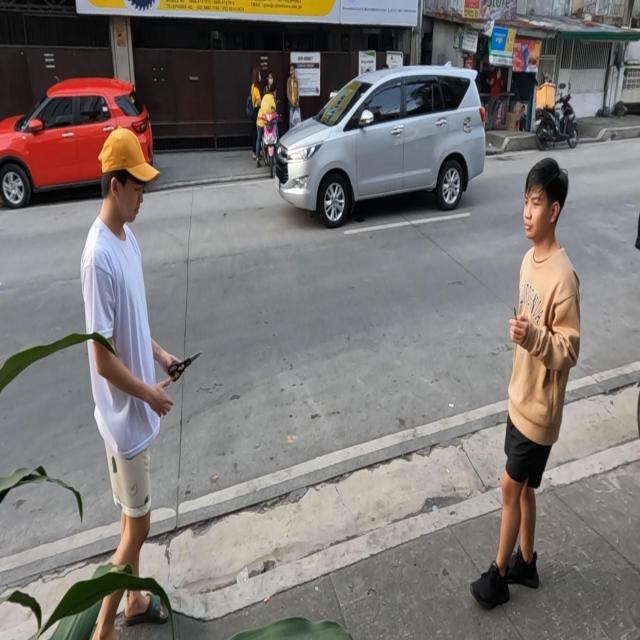scissor: (167, 348, 203, 382)
